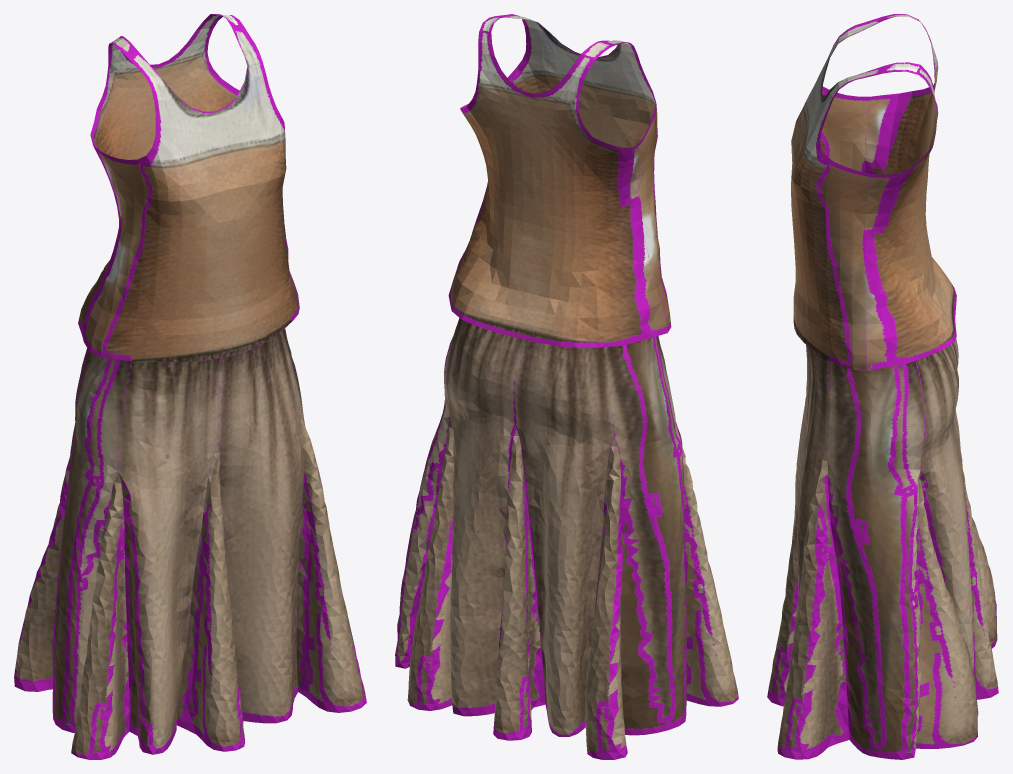
The picture shows the model from 3 angles, left to right: view 1: azimuth 30°, elevation 25°; view 2: azimuth 150°, elevation 25°; view 3: azimuth 270°, elevation 25°; orthographic projection. The views are drawn at different scales.
Size of the model in its own units: 0.3944 by 0.8691 by 0.2751.
1 material, 1 textured.
